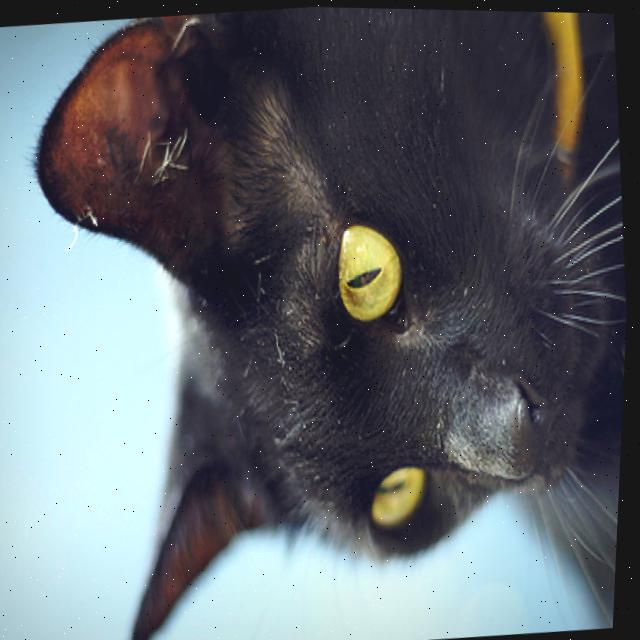Bombay: (2, 0, 640, 640)
